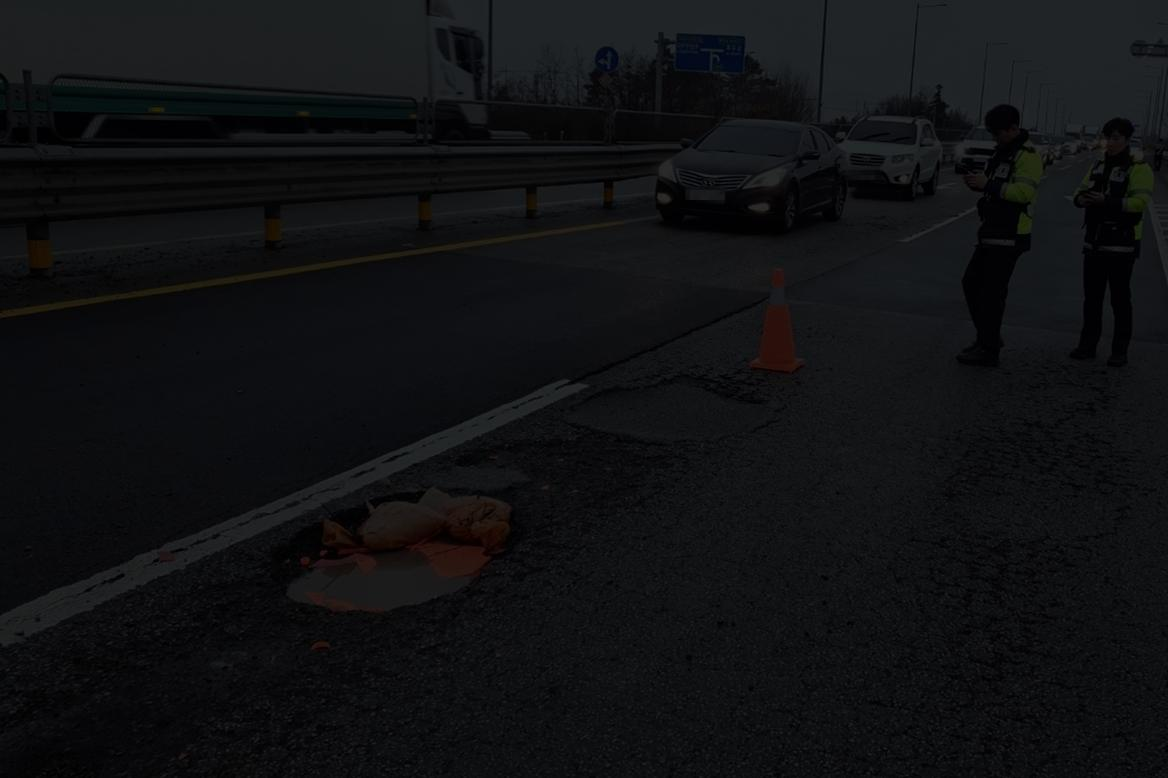pothole: (242, 496, 535, 651), (556, 361, 802, 454)
